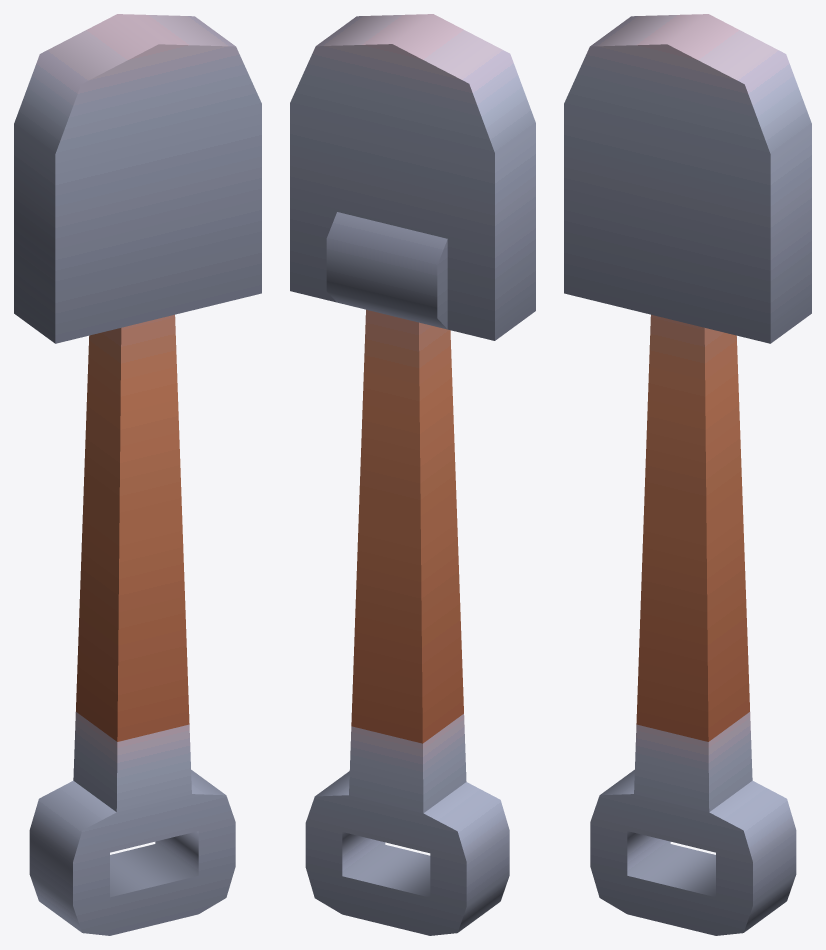
Rendered from tool-shovel.glb.
The picture shows the model from 3 angles, left to right: view 1: azimuth 30°, elevation 25°; view 2: azimuth 150°, elevation 25°; view 3: azimuth 330°, elevation 25°; orthographic projection.
Visible parts, largest first — view 1: tool-shovel; view 2: tool-shovel; view 3: tool-shovel.
Boxes of the visible parts, left/top/right/bottom form: tool-shovel: left=14, top=14, right=261, bottom=935; tool-shovel: left=290, top=14, right=535, bottom=935; tool-shovel: left=564, top=14, right=811, bottom=935.
Size of the model in its own units: 0.0709 by 0.29 by 0.0309.
Materials: 1 (1 with a texture image).
